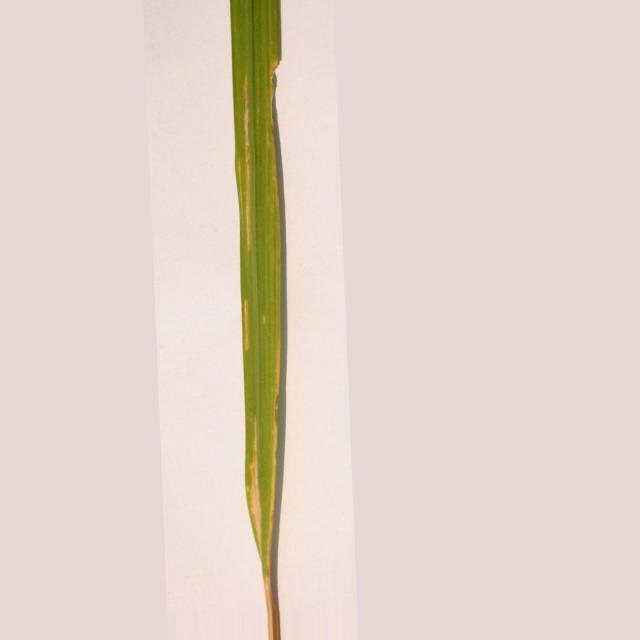Bacterial_Leaf_Blight: (238, 79, 252, 282), (246, 430, 262, 556), (242, 299, 249, 351)
